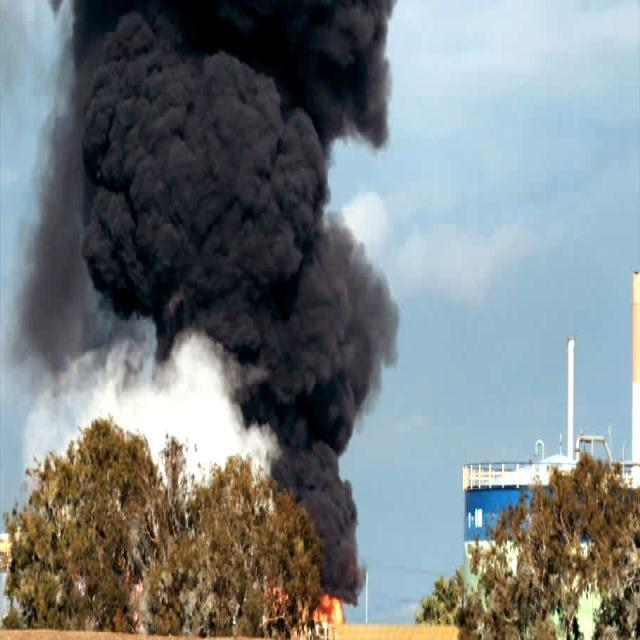Smoke: (0, 0, 401, 608)
